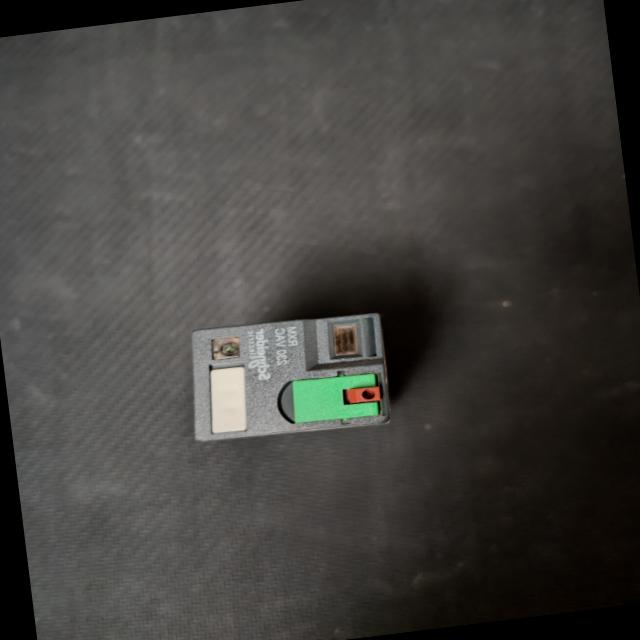relay: (172, 299, 408, 460)
